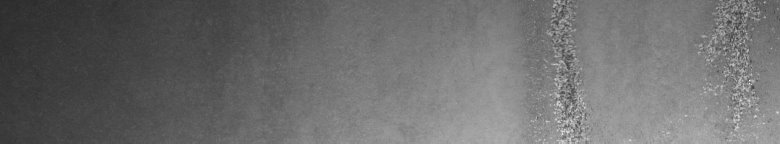hc: (528, 4, 596, 136)
